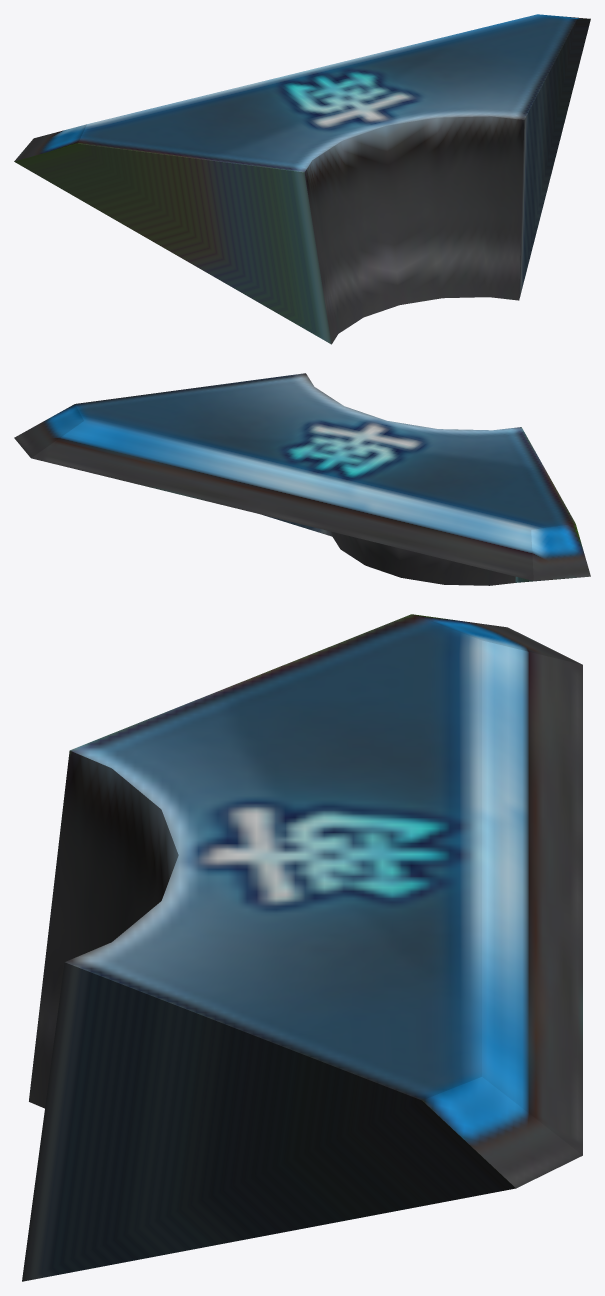
The model's file is desk_nan.FBX.
3 views of the same model, one above another, from view 1: azimuth 30°, elevation 25°; view 2: azimuth 150°, elevation 25°; view 3: azimuth 270°, elevation 25° (orthographic). The views are drawn at different scales.
Parts seen in each view (by area): view 1: nan; view 2: nan; view 3: nan.
Boxes of the visible parts, bbox=[...] form: nan: bbox=[14, 14, 590, 344]; nan: bbox=[14, 373, 590, 585]; nan: bbox=[22, 614, 582, 1281].
Bounding box in the file's own units: 0.3065 × 0.0853 × 0.1295.
